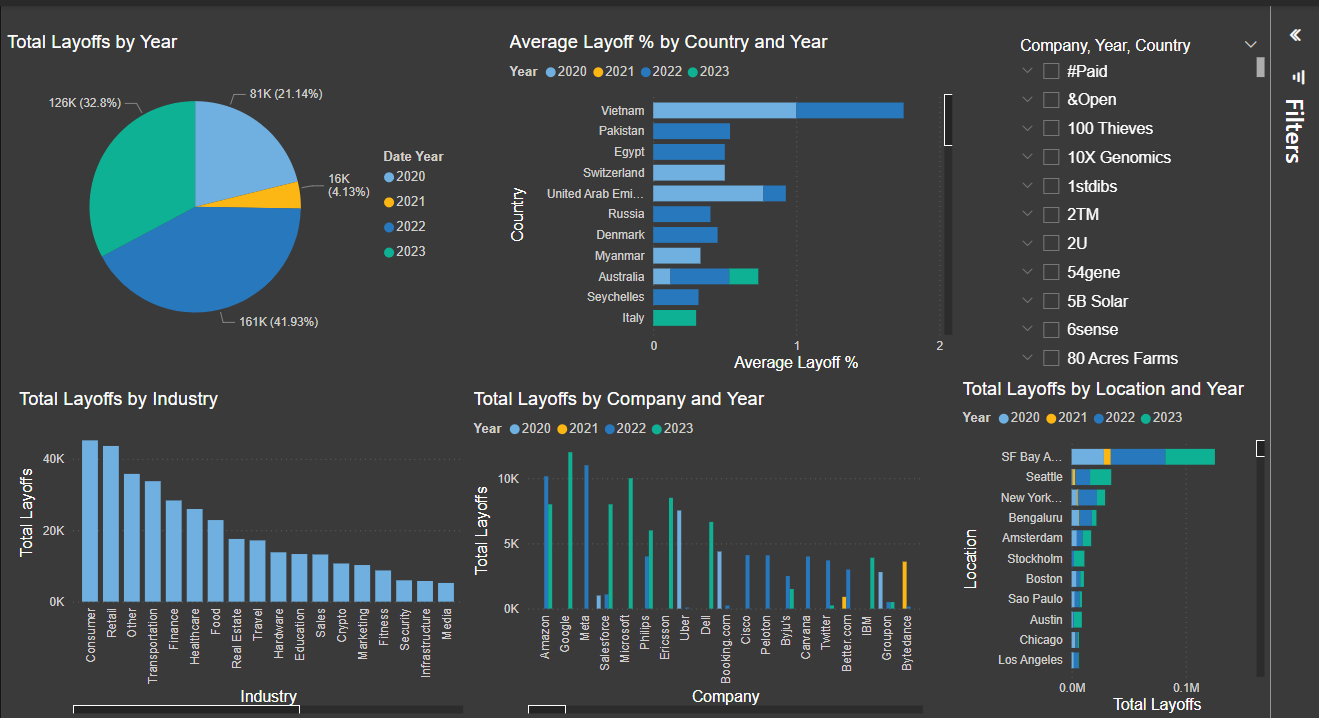

What the dashboard file says about the page in this screenshot:
{"tool":"powerbi","page":{"name":"Year & Country Breakdown","canvas":[1280,720],"ordinal":2},"visuals":[{"type":"pieChart","fields":{"Y":["Layoffs_clean.Total Layoffs"],"Category":["Layoffs_clean.Date.Variation.Date Hierarchy.Year","Layoffs_clean.Date.Variation.Date Hierarchy.Quarter","Layoffs_clean.Date.Variation.Date Hierarchy.Month","Layoffs_clean.Date.Variation.Date Hierarchy.Day"]},"box":[0,25.7,470.9,333.1],"z":0},{"type":"clusteredColumnChart","fields":{"Category":["Layoffs_clean.Company"],"Y":["Layoffs_clean.Total Layoffs"],"Series":["Layoffs_clean.Year"]},"box":[470.9,386.1,463.3,333.1],"z":1000},{"type":"barChart","fields":{"Y":["Layoffs_clean.Average Layoff %"],"Category":["Layoffs_clean.Country"],"Series":["Layoffs_clean.Year"]},"box":[507.3,25.7,457.3,348.3],"z":2000},{"type":"slicer","fields":{"Values":["Layoffs_clean.Company","Layoffs_clean.Year","Layoffs_clean.Country"]},"box":[1014.5,25.7,265,348.3],"z":3000},{"type":"clusteredColumnChart","fields":{"Category":["Layoffs_clean.Industry"],"Y":["Layoffs_clean.Total Layoffs"]},"box":[12.1,386.1,458.8,333.1],"z":4000},{"type":"barChart","fields":{"Category":["Layoffs_clean.Location"],"Y":["Layoffs_clean.Total Layoffs"],"Series":["Layoffs_clean.Year"]},"box":[964.5,375.5,315,343.7],"z":5000}]}

Visuals, with their boxes on the page's 1280x720 design canvas (x1, y1, x2, y2). These are canvas units, not pixel positions in the 1319x718 screenshot, which may show the page scaled, cropped or inside an application window:
pieChart - Layoffs_clean.Total Layoffs x Layoffs_clean.Date.Variation.Date Hierarchy.Year: {"x1": 0, "y1": 26, "x2": 471, "y2": 359}
clusteredColumnChart - Layoffs_clean.Company x Layoffs_clean.Total Layoffs: {"x1": 471, "y1": 386, "x2": 934, "y2": 719}
barChart - Layoffs_clean.Average Layoff % x Layoffs_clean.Country: {"x1": 507, "y1": 26, "x2": 965, "y2": 374}
slicer - Layoffs_clean.Company x Layoffs_clean.Year: {"x1": 1014, "y1": 26, "x2": 1280, "y2": 374}
clusteredColumnChart - Layoffs_clean.Industry x Layoffs_clean.Total Layoffs: {"x1": 12, "y1": 386, "x2": 471, "y2": 719}
barChart - Layoffs_clean.Location x Layoffs_clean.Total Layoffs: {"x1": 964, "y1": 376, "x2": 1280, "y2": 719}
